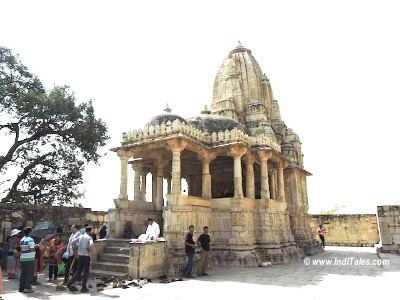gopuram: (206, 48, 287, 120)
mandapa: (105, 112, 263, 211)
